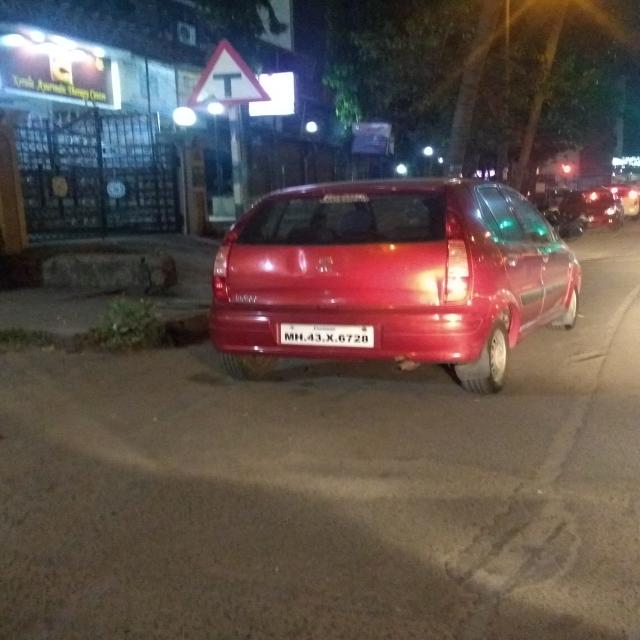Number-Plate: (283, 321, 370, 348)
